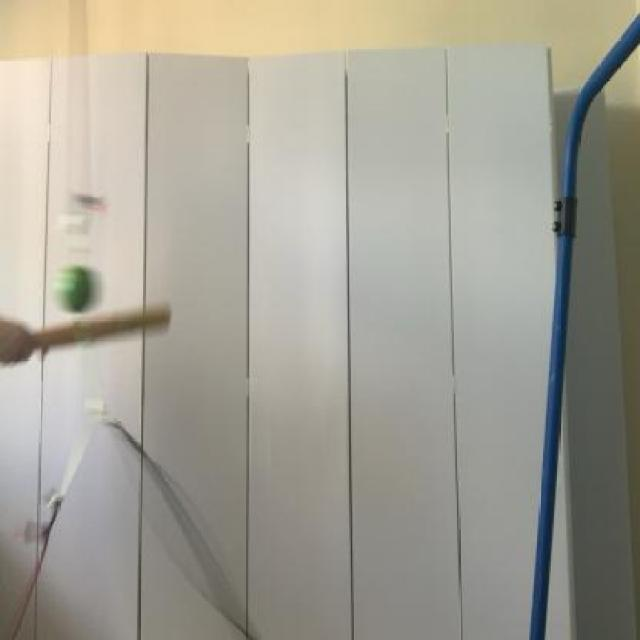baseball: (49, 258, 105, 320)
